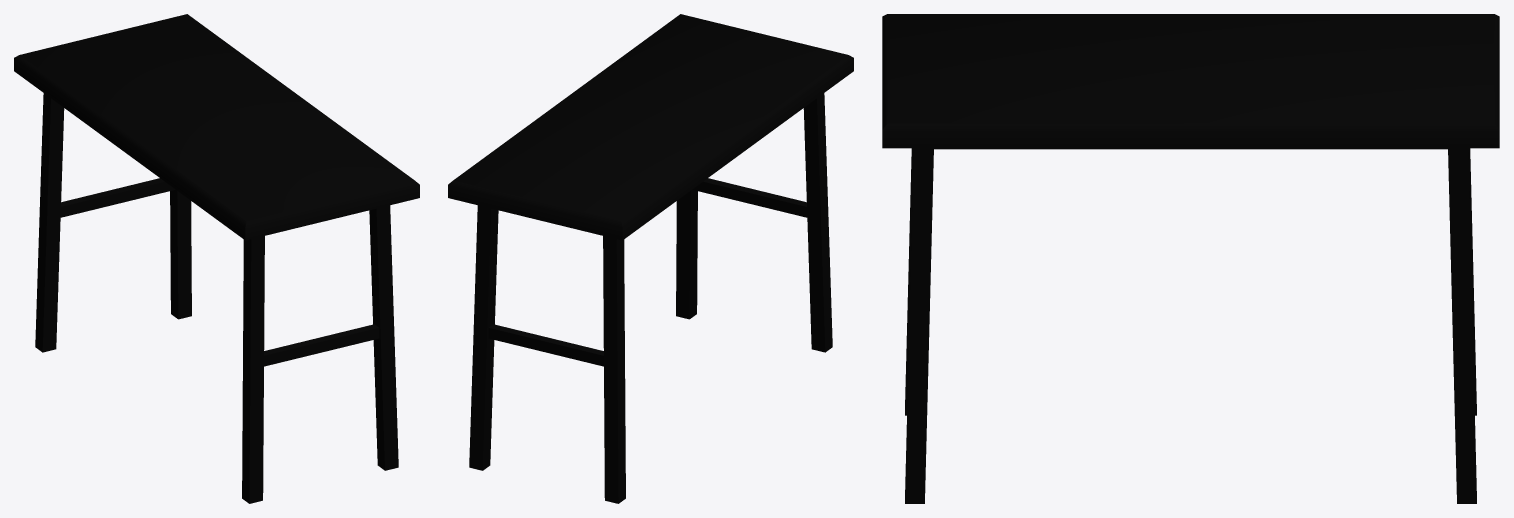
Rendered from o_mdl_env_propFurnitureTableSmallA-transformed.glb.
The picture shows the model from 3 angles, left to right: view 1: azimuth 30°, elevation 25°; view 2: azimuth 150°, elevation 25°; view 3: azimuth 270°, elevation 25°; orthographic projection. The views are drawn at different scales.
Visible parts, largest first — view 1: default; view 2: default; view 3: default.
Part boxes in pixels (<box>): default: <box>14,14,419,503</box>; default: <box>448,14,853,503</box>; default: <box>882,14,1499,503</box>.
Size of the model in its own units: 0.569 by 0.9029 by 1.31.
Materials: 1 (1 with a texture image).
